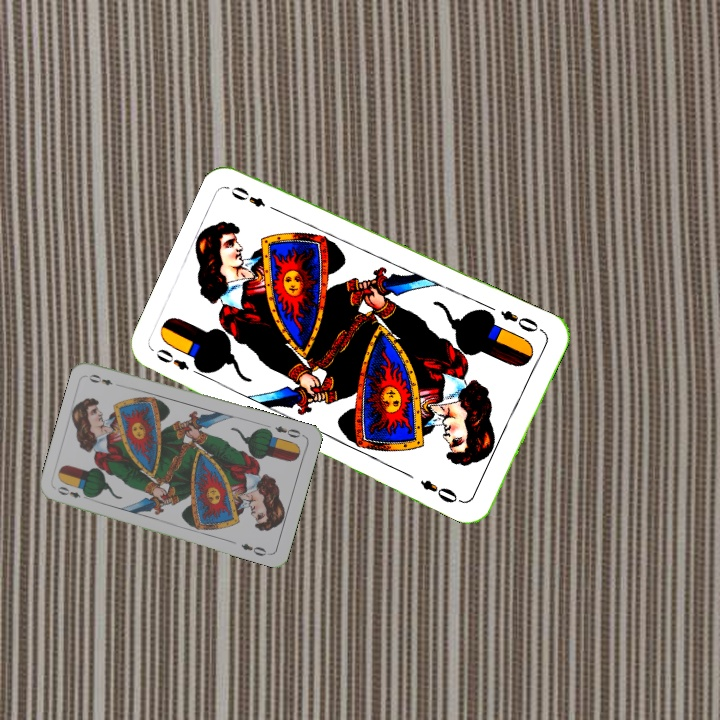EO: (496, 306, 546, 336), (152, 345, 192, 373), (53, 482, 92, 503), (271, 422, 303, 441)
